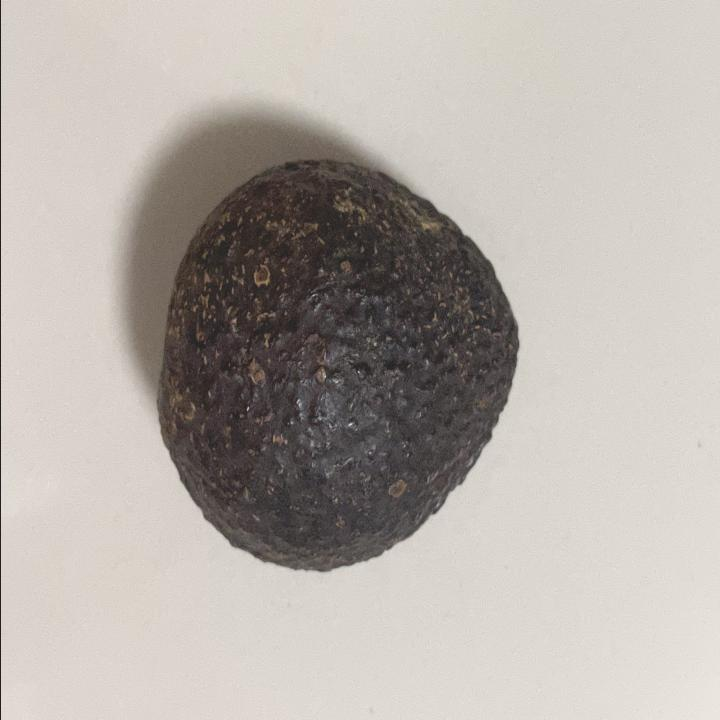Level3: (148, 147, 529, 588)
